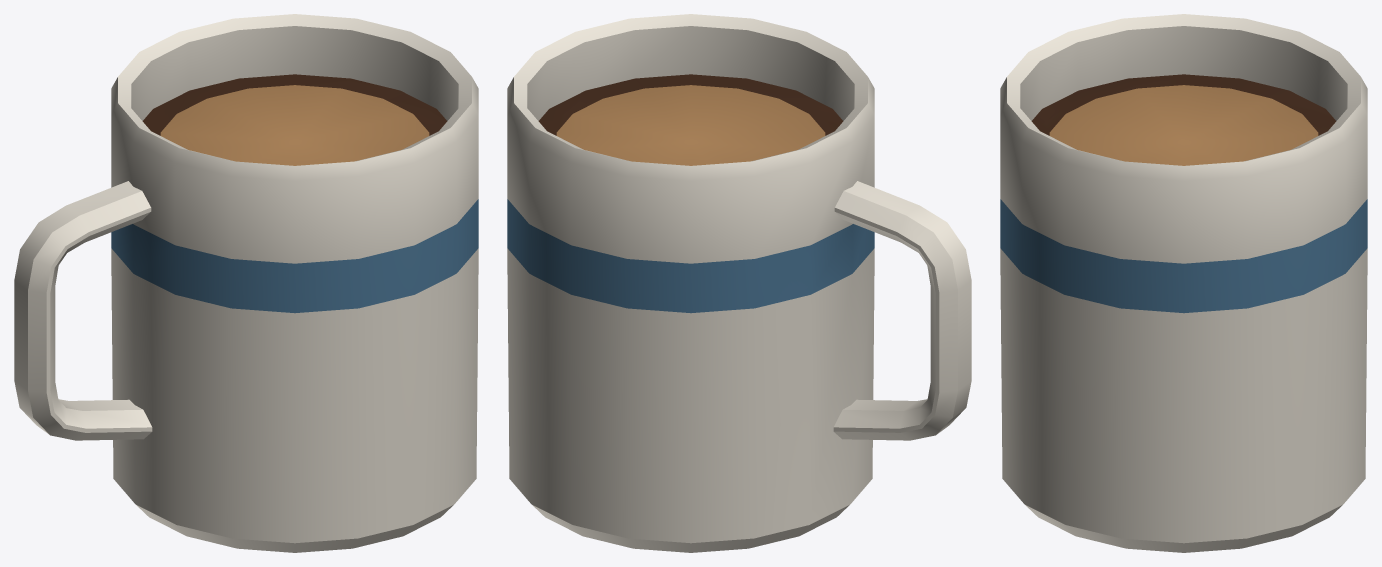
File: mug.glb
3 renders of one model, left to right at view 1: azimuth 30°, elevation 25°; view 2: azimuth 150°, elevation 25°; view 3: azimuth 270°, elevation 25°, orthographic.
Parts seen in each view (by area): view 1: mug; view 2: mug; view 3: mug.
Boxes of the visible parts, left/top/right/bottom form: mug: left=14, top=14, right=478, bottom=552; mug: left=507, top=14, right=971, bottom=552; mug: left=1000, top=14, right=1367, bottom=552.
Size of the model in its own units: 0.1105 by 0.095 by 0.0808.
